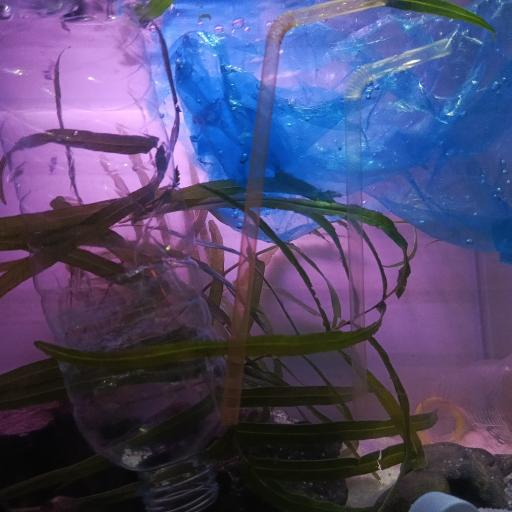bottle_cap: (414, 395, 468, 443), (408, 489, 476, 512)
plastic_bag: (146, 0, 511, 262)
plastic_bottle: (0, 0, 228, 512)
plastic_straw: (225, 0, 402, 426), (342, 39, 452, 432)
